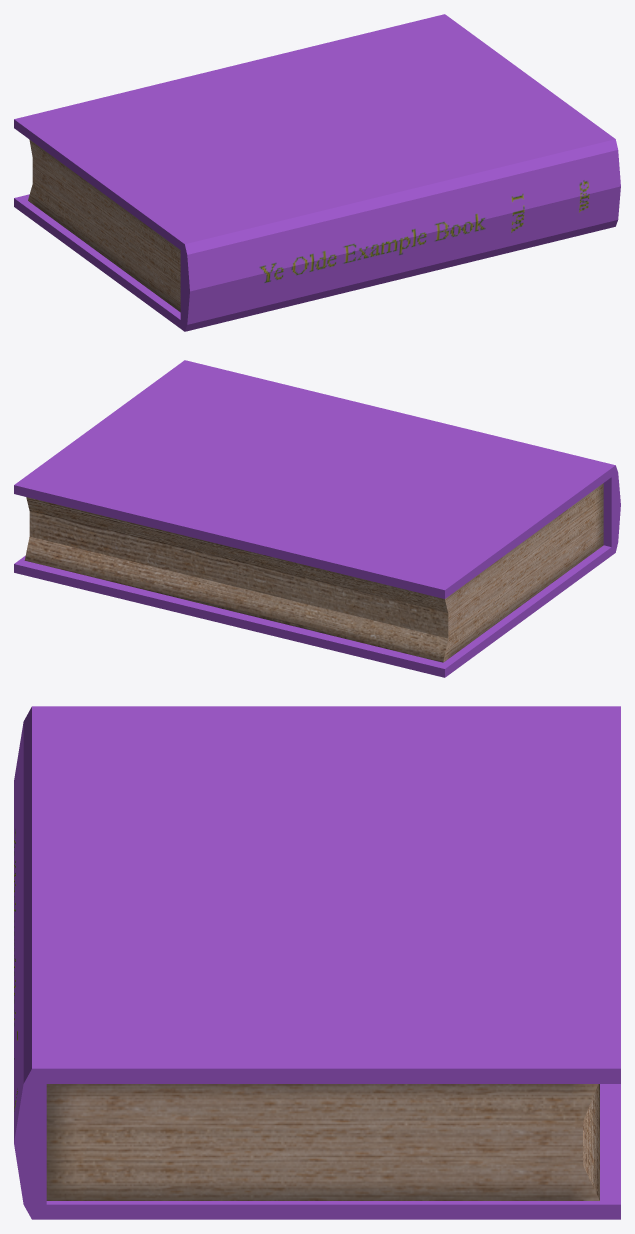
The model's file is purple_book.obj.
3 views of the same model, one above another, from view 1: azimuth 30°, elevation 25°; view 2: azimuth 150°, elevation 25°; view 3: azimuth 270°, elevation 25° (orthographic). The views are drawn at different scales.
Visible parts, largest first — view 1: Book_Cube.001; view 2: Book_Cube.001; view 3: Book_Cube.001.
Boxes of the visible parts, bbox=[...] form: Book_Cube.001: bbox=[14, 14, 620, 331]; Book_Cube.001: bbox=[14, 360, 620, 677]; Book_Cube.001: bbox=[14, 706, 620, 1219].
Size of the model in its own units: 5.15 by 1 by 3.64.
